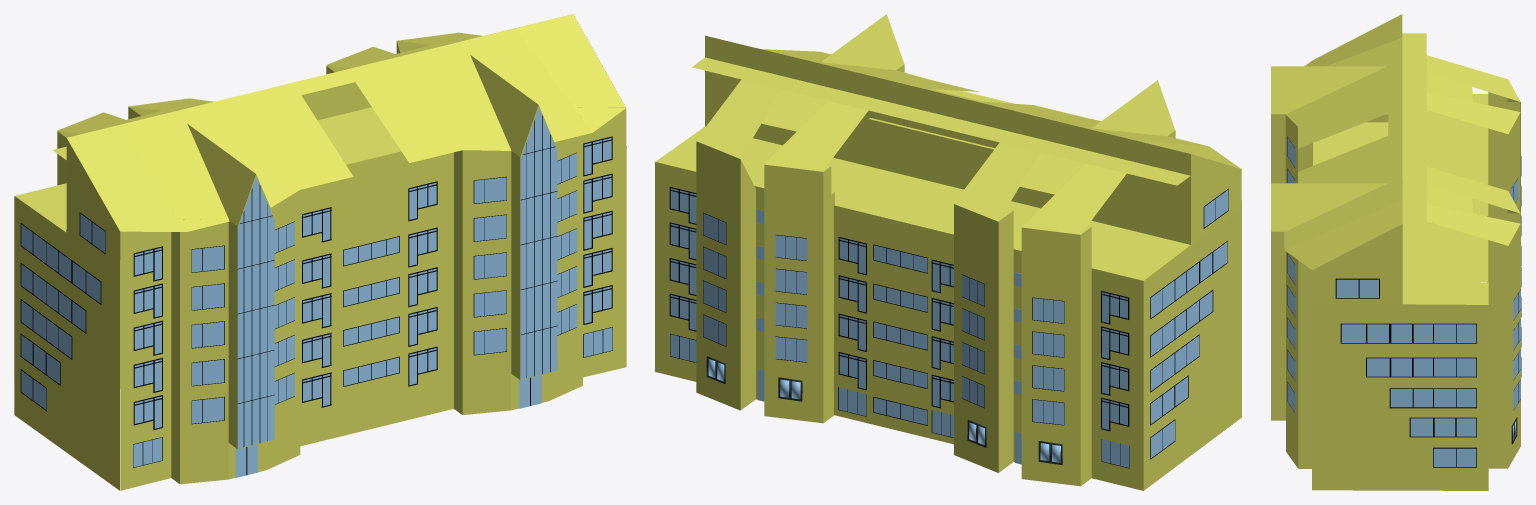
File: third_build.glb
3 renders of one model, left to right at view 1: azimuth 30°, elevation 25°; view 2: azimuth 150°, elevation 25°; view 3: azimuth 270°, elevation 25°, orthographic. The views are drawn at different scales.
Parts seen in each view (by area): view 1: Плоскость, Door 2.009, Door 2.010, Plane.013, Plane.012, Plane.008, Plane.007, Plane.019, Plane.022, Plane.020, Plane.021, Plane.085 (+35 smaller); view 2: Плоскость, Plane.013, Plane.012, Plane.008, Plane.015, Plane.014, Plane.017, Plane.018, Plane.016, Plane.007, Plane.061, Plane.059 (+25 smaller); view 3: Плоскость, Plane.011, Plane.009, Plane.004, Plane.002, Plane.005, Plane.001.
Boxes of the visible parts, <box> form: Плоскость: <box>14,14,626,490</box>; Door 2.009: <box>520,107,557,379</box>; Door 2.010: <box>237,176,274,448</box>; Plane.013: <box>20,223,101,304</box>; Plane.012: <box>20,263,86,333</box>; Plane.008: <box>20,299,72,359</box>; Plane.007: <box>20,333,60,385</box>; Plane.019: <box>343,236,399,266</box>; Plane.022: <box>343,356,399,386</box>; Plane.020: <box>343,277,399,307</box>; Plane.021: <box>343,316,399,346</box>; Plane.085: <box>473,252,506,279</box>; Плоскость: <box>655,14,1241,490</box>; Plane.013: <box>1150,241,1227,319</box>; Plane.012: <box>1150,289,1213,357</box>; Plane.008: <box>1150,334,1199,392</box>; Plane.015: <box>873,244,927,273</box>; Plane.014: <box>873,283,927,312</box>; Plane.017: <box>873,360,927,388</box>; Plane.018: <box>873,397,927,425</box>; Plane.016: <box>873,321,927,350</box>; Plane.007: <box>1150,375,1188,425</box>; Plane.061: <box>1032,331,1064,357</box>; Plane.059: <box>1032,399,1064,425</box>; Плоскость: <box>1271,14,1520,490</box>; Plane.011: <box>1340,323,1476,343</box>; Plane.009: <box>1366,357,1476,377</box>; Plane.004: <box>1389,388,1476,408</box>; Plane.002: <box>1409,417,1476,437</box>; Plane.005: <box>1335,278,1379,298</box>; Plane.001: <box>1433,447,1476,467</box>.
Bounding box in the file's own units: 70.62 × 41.54 × 35.46.
